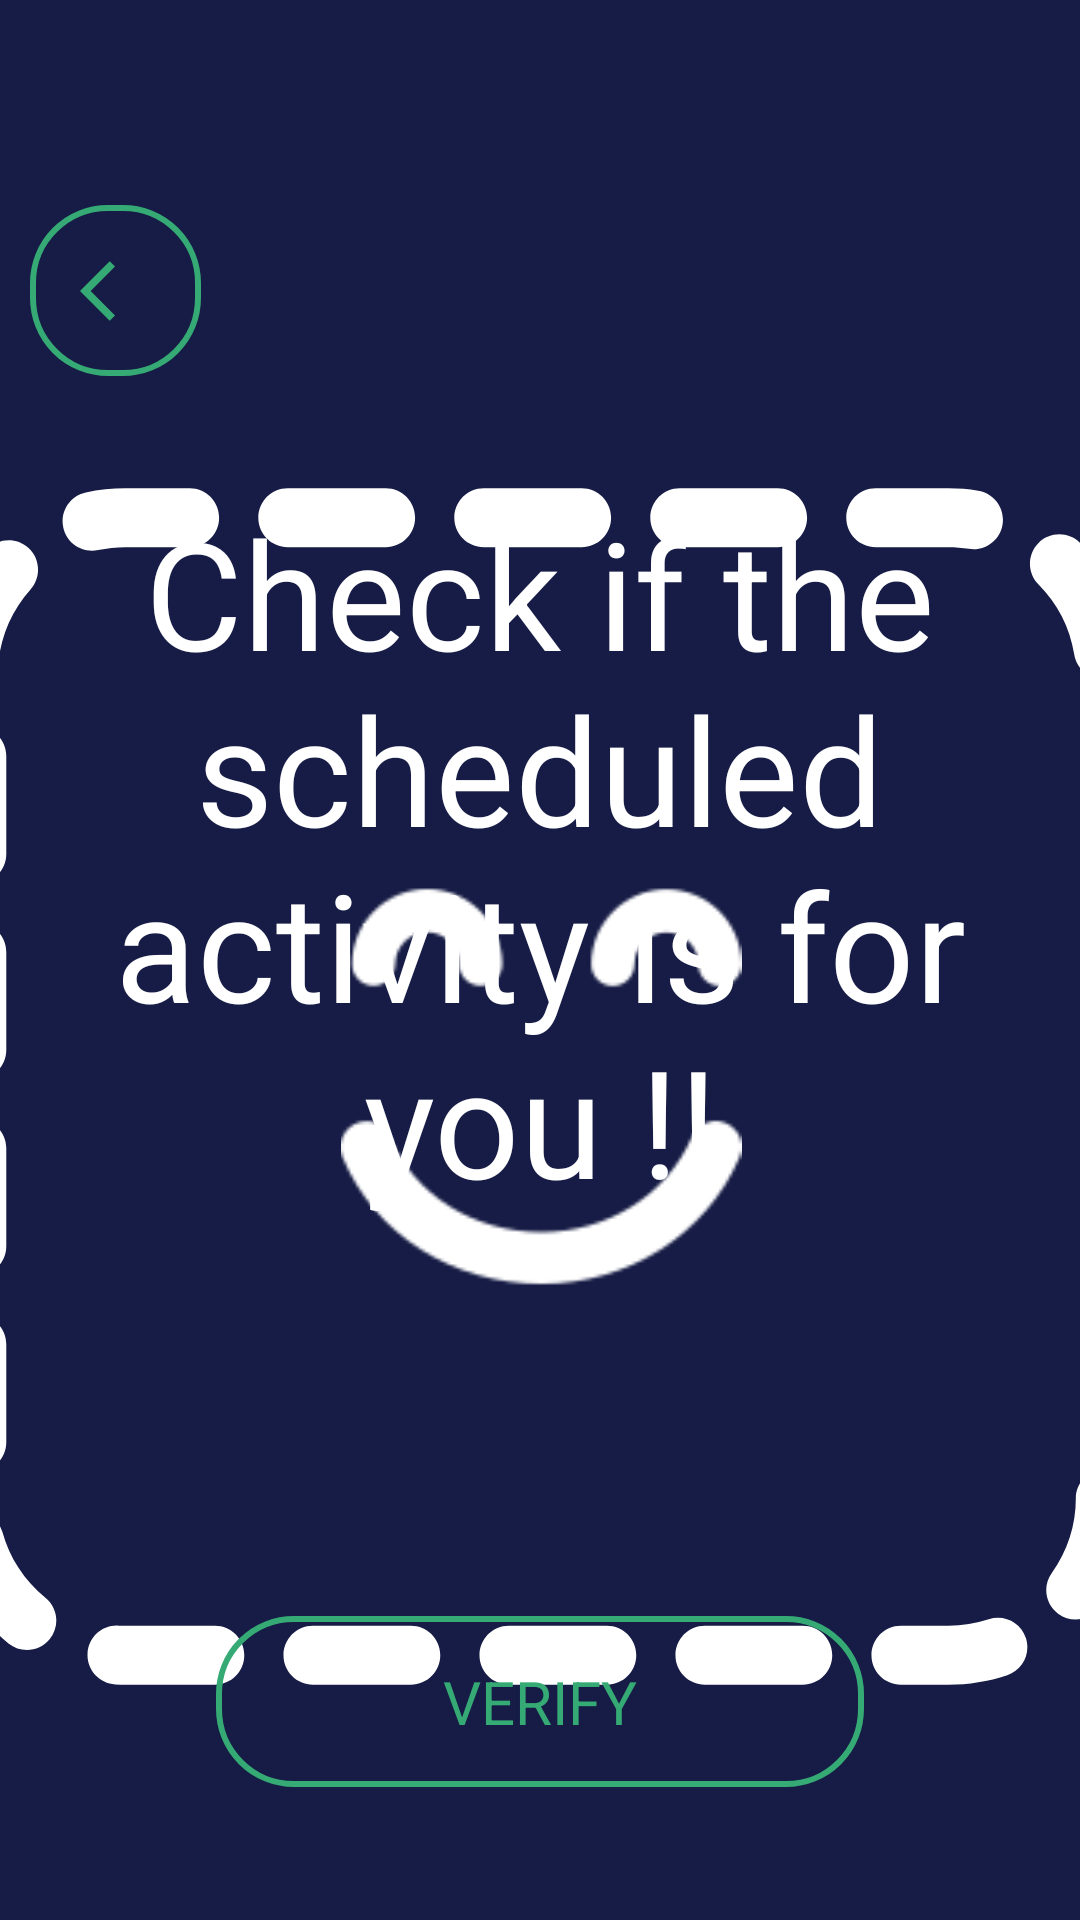

Icons on this 1080w x 1920h Android screen, each with the point to tap as (x=x, y=y):
back: (x=115, y=290)
